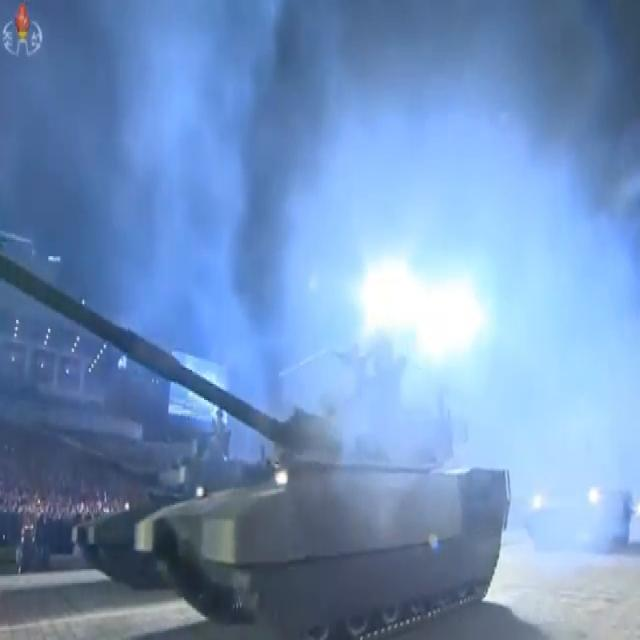north tank: (3, 221, 544, 640), (11, 398, 280, 585)
